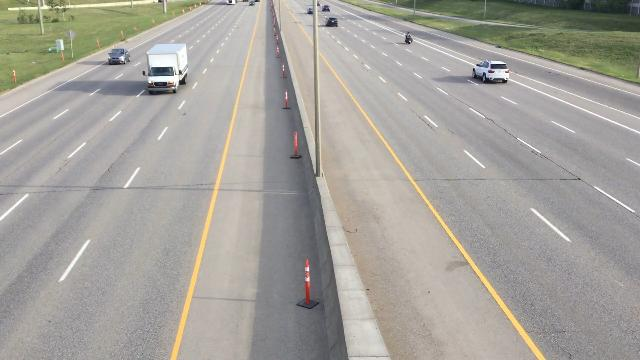car: (472, 57, 511, 86), (108, 46, 132, 66), (326, 16, 339, 28), (321, 3, 331, 12), (307, 8, 314, 14), (248, 0, 255, 5)
motorcycle: (402, 30, 414, 44)
truck: (144, 43, 192, 95)
